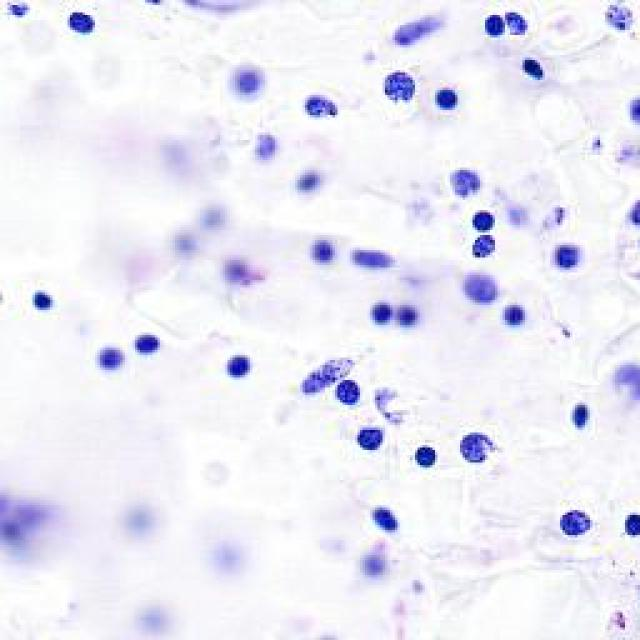cell: (205, 531, 259, 583), (374, 57, 424, 108), (222, 61, 275, 99), (351, 240, 408, 273), (18, 494, 58, 539), (296, 88, 348, 122), (216, 347, 265, 383), (391, 13, 446, 43), (122, 496, 164, 534), (282, 163, 333, 194), (304, 232, 341, 272), (463, 430, 503, 466), (134, 604, 187, 631), (454, 160, 488, 201), (459, 274, 500, 308), (59, 10, 106, 36), (21, 288, 61, 318), (353, 555, 393, 584), (560, 511, 596, 543), (95, 341, 126, 377), (368, 502, 404, 533), (594, 6, 636, 32), (567, 402, 598, 436), (131, 328, 171, 354), (364, 298, 396, 330), (330, 381, 366, 407), (409, 440, 439, 470), (220, 263, 259, 286), (554, 241, 586, 268), (196, 203, 238, 223), (464, 209, 506, 229), (506, 296, 530, 331), (483, 8, 505, 46), (516, 54, 548, 80), (356, 428, 390, 452), (465, 239, 500, 262), (615, 363, 640, 395), (401, 296, 421, 334), (252, 133, 280, 159), (433, 86, 463, 110), (167, 233, 196, 252), (625, 96, 640, 132), (622, 512, 640, 542), (512, 6, 527, 40), (5, 8, 33, 22), (619, 364, 623, 366)
